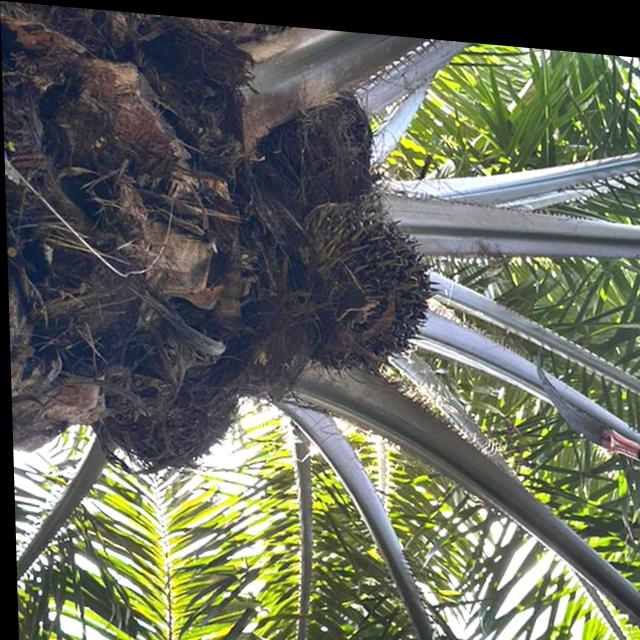unripe: (279, 184, 447, 380)
